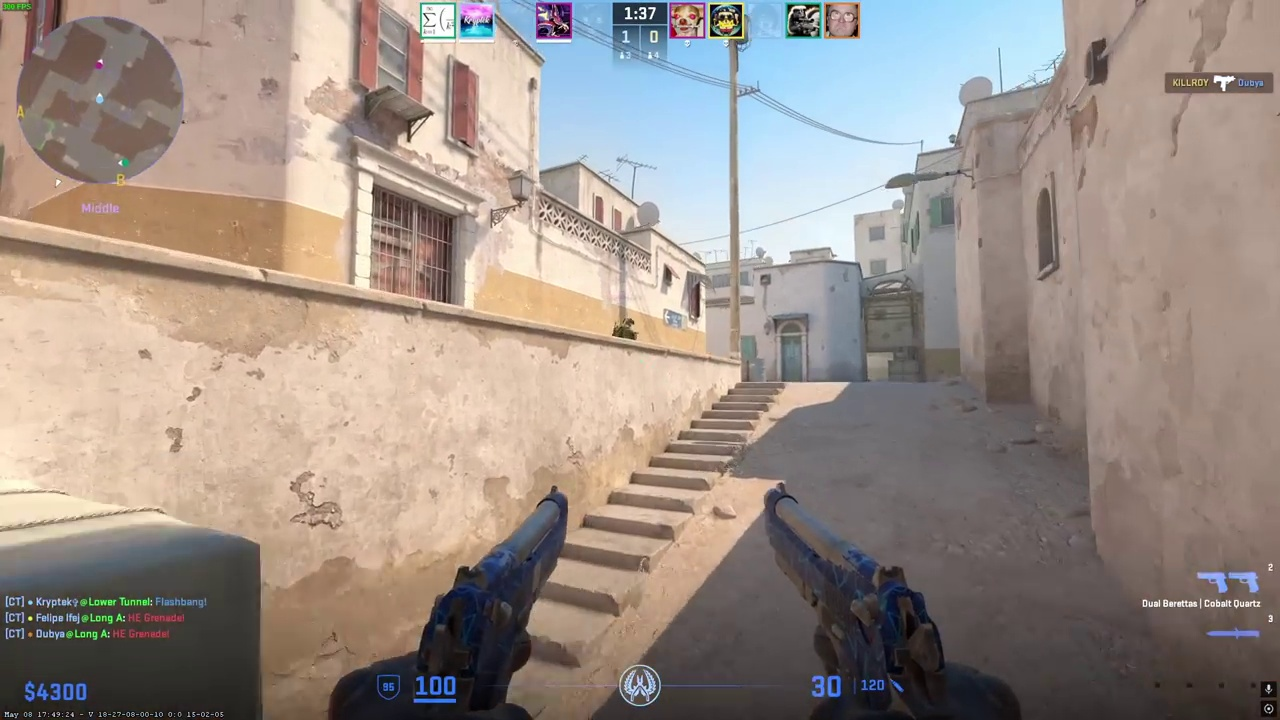CT: (614, 317, 637, 340)
